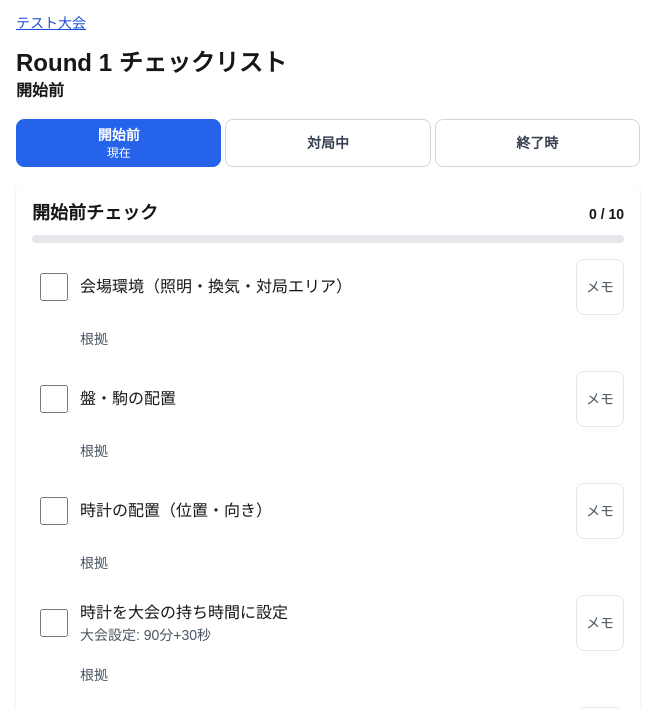
Round Checklist page › can view another phase without changing the round
Click the button "終了時".
click(537, 143)  # box [435,119,640,167]
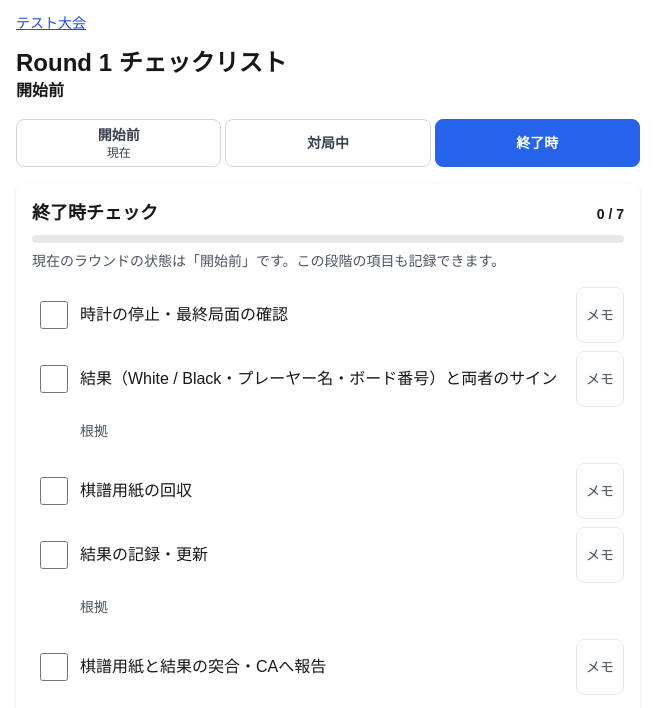
Expected: the heading "終了時チェック" is shown, [32,199,158,227]
Expected: the text "現在のラウンドの状態は「開始前」です。この段階の項目も記録できます。" is shown, [32,253,505,269]
